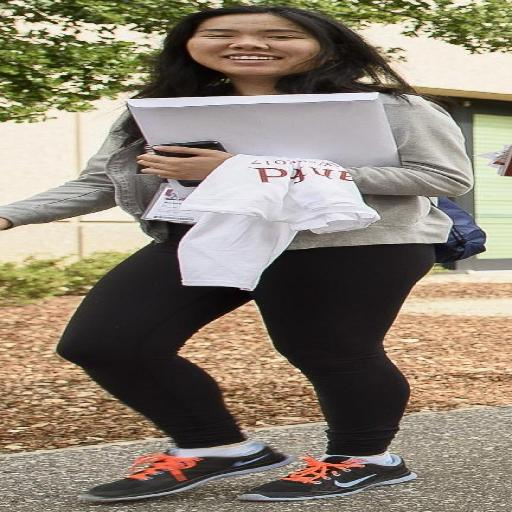person: (0, 6, 471, 501)
